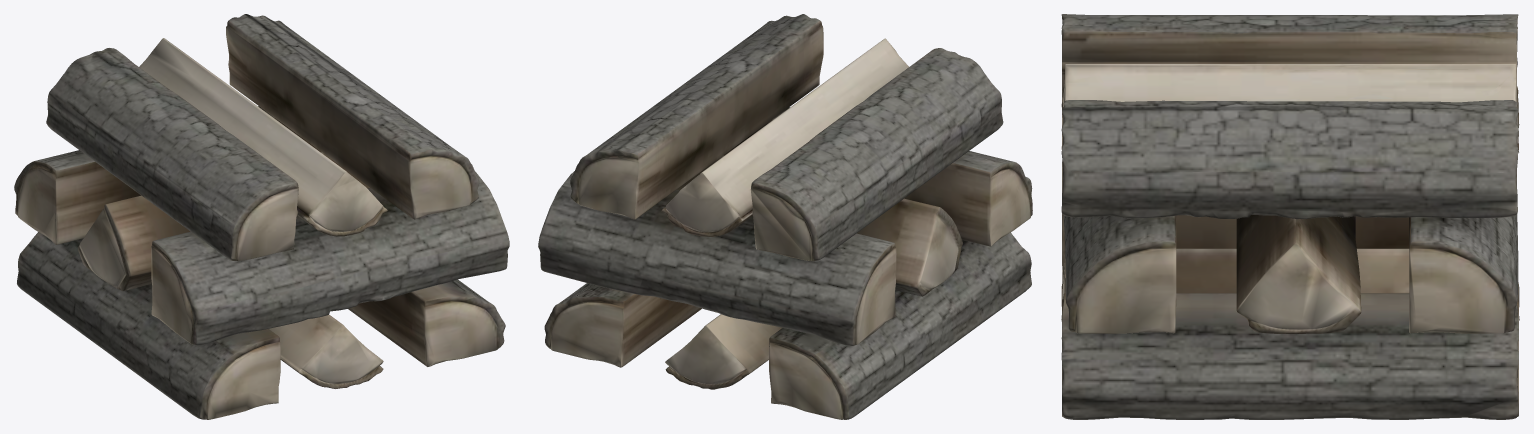
File: p-wood.glb
3 renders of one model, left to right at view 1: azimuth 30°, elevation 25°; view 2: azimuth 150°, elevation 25°; view 3: azimuth 270°, elevation 25°, orthographic. The views are drawn at different scales.
Visible parts, largest first — view 1: node_0; view 2: node_0; view 3: node_0.
Part boxes in pixels (x1,y1,x2,y2): node_0: (14, 14, 509, 419); node_0: (538, 14, 1032, 419); node_0: (1061, 14, 1519, 419).
Bounding box in the file's own units: 0.7821 × 0.5177 × 0.7993.
Materials: 1 (1 with a texture image).
